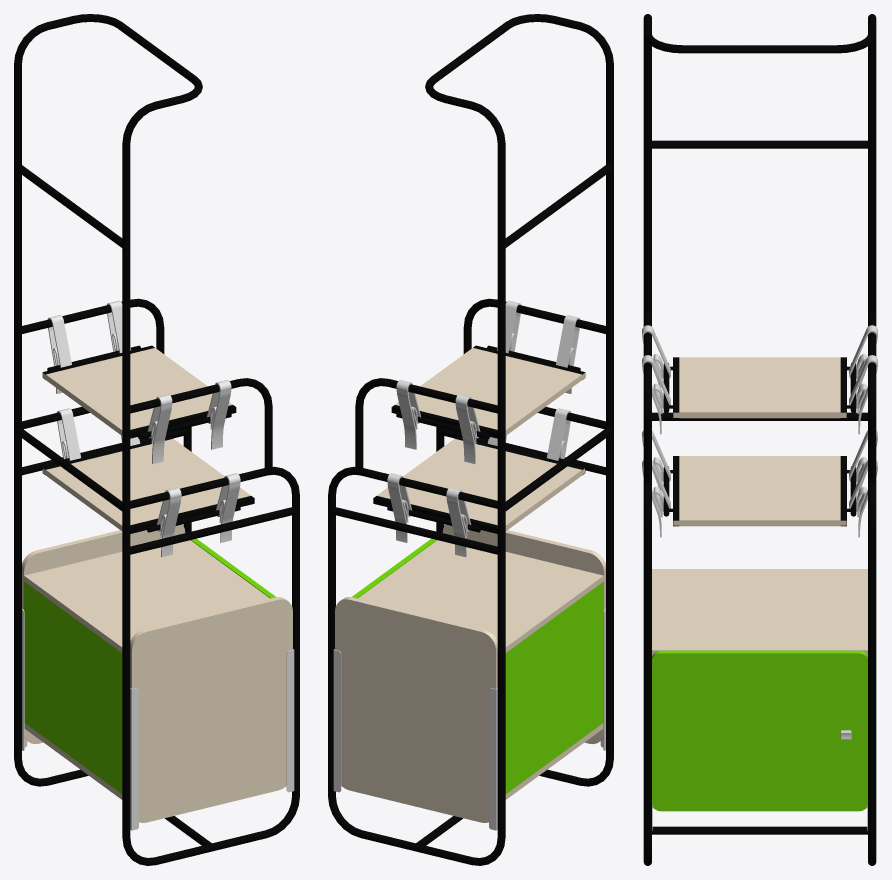
3 views of the same model, side by side, from view 1: azimuth 30°, elevation 25°; view 2: azimuth 150°, elevation 25°; view 3: azimuth 270°, elevation 25° (orthographic). The views are drawn at different scales.
Parts seen in each view (by area): view 1: Cuerpo1:4, Cuerpo1, Cuerpo14, Cuerpo1:3, Cuerpo1:2, Cuerpo1:1, Cuerpo18, Cuerpo3, Cuerpo2, Cuerpo54, Cuerpo52, Cuerpo24 (+7 smaller); view 2: Cuerpo18, Cuerpo1, Cuerpo14, Cuerpo1:3, Cuerpo1:2, Cuerpo1:1, Cuerpo1:4, Cuerpo5, Cuerpo4, Cuerpo53, Cuerpo51, Cuerpo30 (+7 smaller); view 3: Cuerpo20, Cuerpo1, Cuerpo1:3, Cuerpo1:2, Cuerpo1:1, Cuerpo24, Cuerpo25, Cuerpo53, Cuerpo54, Cuerpo27, Cuerpo28, Cuerpo51 (+2 smaller).
Boxes of the visible parts, x1=… form: Cuerpo1:4: x1=130, y1=597, x2=292, y2=822; Cuerpo1: x1=14, y1=14, x2=299, y2=865; Cuerpo14: x1=24, y1=581, x2=122, y2=793; Cuerpo1:3: x1=24, y1=540, x2=269, y2=652; Cuerpo1:2: x1=43, y1=438, x2=250, y2=530; Cuerpo1:1: x1=43, y1=348, x2=232, y2=435; Cuerpo18: x1=22, y1=524, x2=185, y2=743; Cuerpo3: x1=130, y1=688, x2=138, y2=830; Cuerpo2: x1=286, y1=649, x2=294, y2=792; Cuerpo54: x1=207, y1=380, x2=231, y2=449; Cuerpo52: x1=147, y1=394, x2=172, y2=463; Cuerpo24: x1=130, y1=496, x2=254, y2=533; Cuerpo18: x1=335, y1=597, x2=497, y2=822; Cuerpo1: x1=328, y1=14, x2=613, y2=865; Cuerpo14: x1=505, y1=581, x2=603, y2=793; Cuerpo1:3: x1=358, y1=540, x2=603, y2=652; Cuerpo1:2: x1=377, y1=438, x2=584, y2=530; Cuerpo1:1: x1=395, y1=348, x2=584, y2=435; Cuerpo1:4: x1=442, y1=524, x2=605, y2=743; Cuerpo5: x1=489, y1=688, x2=497, y2=830; Cuerpo4: x1=333, y1=649, x2=341, y2=792; Cuerpo53: x1=396, y1=380, x2=420, y2=449; Cuerpo51: x1=455, y1=394, x2=480, y2=463; Cuerpo30: x1=446, y1=487, x2=471, y2=557; Cuerpo20: x1=652, y1=650, x2=867, y2=811; Cuerpo1: x1=643, y1=14, x2=876, y2=865; Cuerpo1:3: x1=652, y1=569, x2=867, y2=655; Cuerpo1:2: x1=673, y1=456, x2=846, y2=526; Cuerpo1:1: x1=673, y1=357, x2=846, y2=418; Cuerpo24: x1=663, y1=456, x2=679, y2=526; Cuerpo25: x1=663, y1=357, x2=679, y2=418; Cuerpo53: x1=849, y1=355, x2=877, y2=434; Cuerpo54: x1=642, y1=355, x2=670, y2=434; Cuerpo27: x1=642, y1=460, x2=670, y2=537; Cuerpo28: x1=849, y1=460, x2=877, y2=537; Cuerpo51: x1=849, y1=325, x2=877, y2=398.
Bounding box in the file's own units: 0.05 × 0.1999 × 0.0542.
